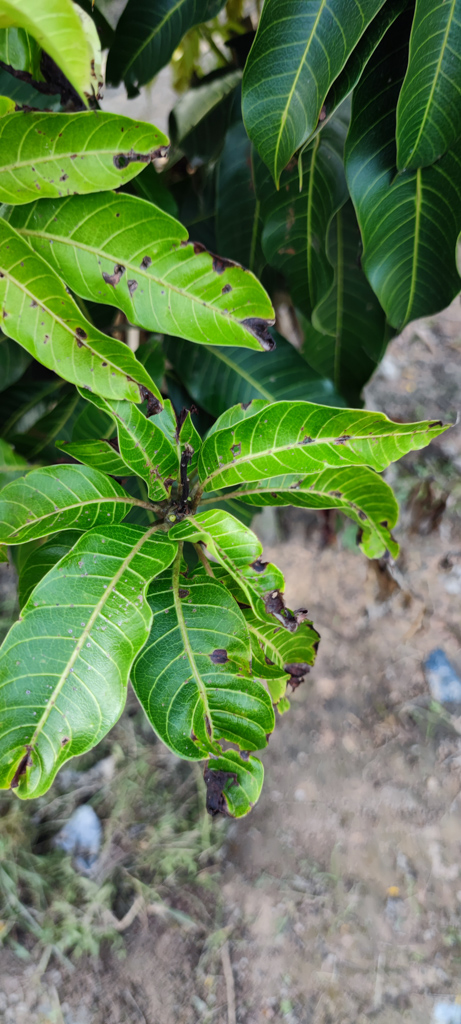Alternaria brassicicola: (72, 203, 278, 350), (2, 237, 131, 403), (209, 402, 445, 492), (258, 469, 403, 548)
